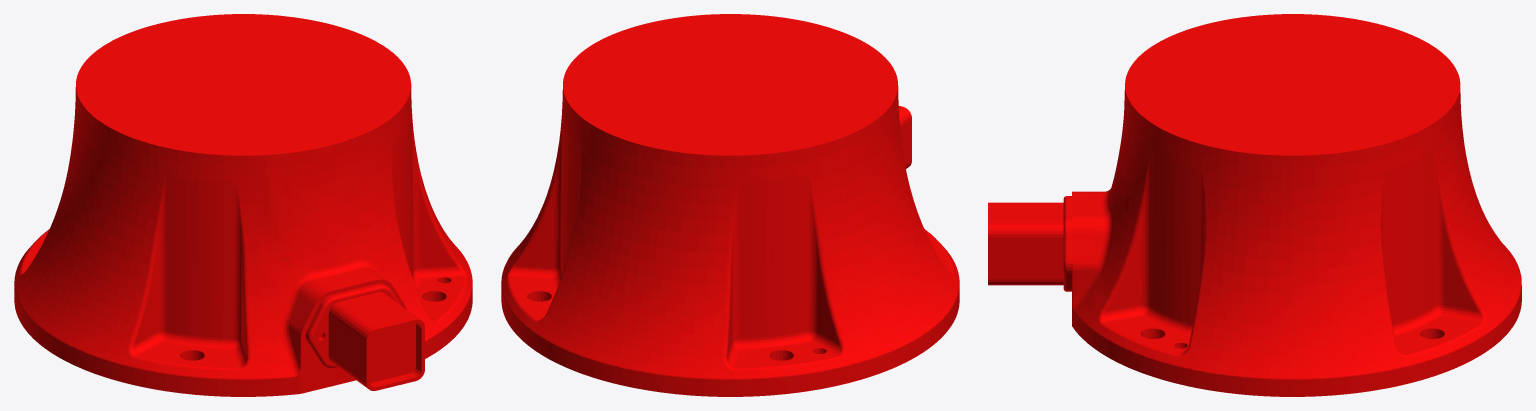
3 views of the same model, side by side, from view 1: azimuth 30°, elevation 25°; view 2: azimuth 150°, elevation 25°; view 3: azimuth 270°, elevation 25° (orthographic).
Parts seen in each view (by area): view 1: E0509_0; view 2: E0509_0; view 3: E0509_0.
Part boxes in pixels (x1,y1,x2,y2): E0509_0: [14, 14, 472, 396]; E0509_0: [501, 14, 959, 396]; E0509_0: [988, 14, 1521, 396].
Size of the model in its own units: 164 by 191 by 85.
